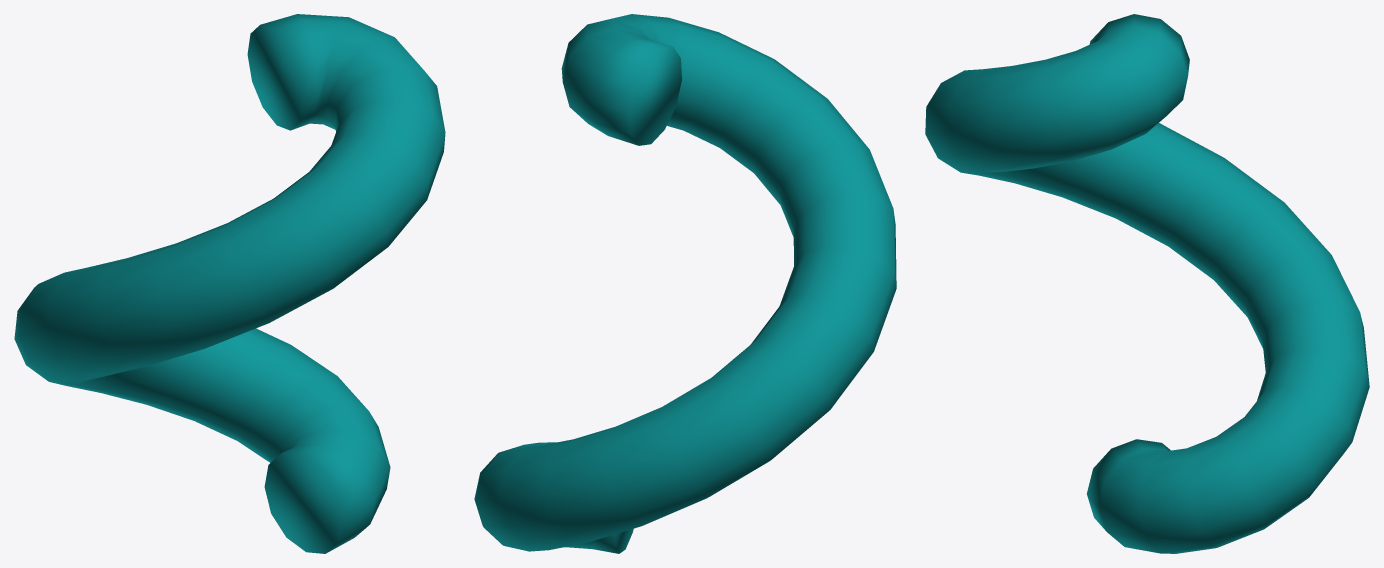
File: hair.fbx
3 views of the same model, side by side, from view 1: azimuth 30°, elevation 25°; view 2: azimuth 150°, elevation 25°; view 3: azimuth 270°, elevation 25° (orthographic). The views are drawn at different scales.
Parts seen in each view (by area): view 1: Spiral; view 2: Spiral; view 3: Spiral.
Part boxes in pixels (x1,y1,x2,y2): Spiral: [14, 14, 445, 553]; Spiral: [474, 14, 896, 553]; Spiral: [925, 14, 1369, 553].
Size of the model in its own units: 173 by 246 by 195.
